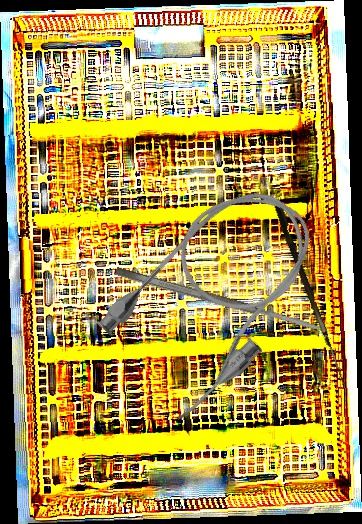Cannula: (84, 161, 348, 431)
Hook Surgical: (270, 201, 354, 388)
Spatula Surgical: (114, 265, 321, 335)
